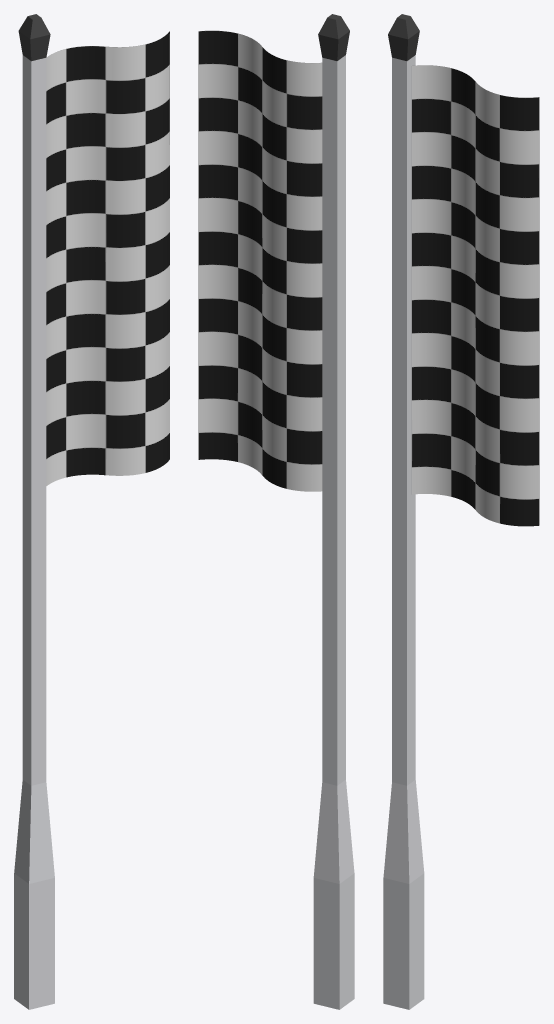
The model's file is flagCheckers.glb.
3 views of the same model, side by side, from view 1: azimuth 30°, elevation 25°; view 2: azimuth 150°, elevation 25°; view 3: azimuth 330°, elevation 25° (orthographic).
Parts seen in each view (by area): view 1: flagCheckers, Group; view 2: flagCheckers, Group; view 3: flagCheckers, Group.
Boxes of the visible parts, x1,y1,x2,y2 form: flagCheckers: [46, 31, 169, 485]; Group: [14, 14, 54, 1009]; flagCheckers: [198, 30, 322, 491]; Group: [313, 14, 354, 1009]; flagCheckers: [411, 65, 539, 526]; Group: [383, 14, 424, 1009].
Bounding box in the file's own units: 0.1972 × 1.25 × 0.0352.
4 materials, 1 textured.
